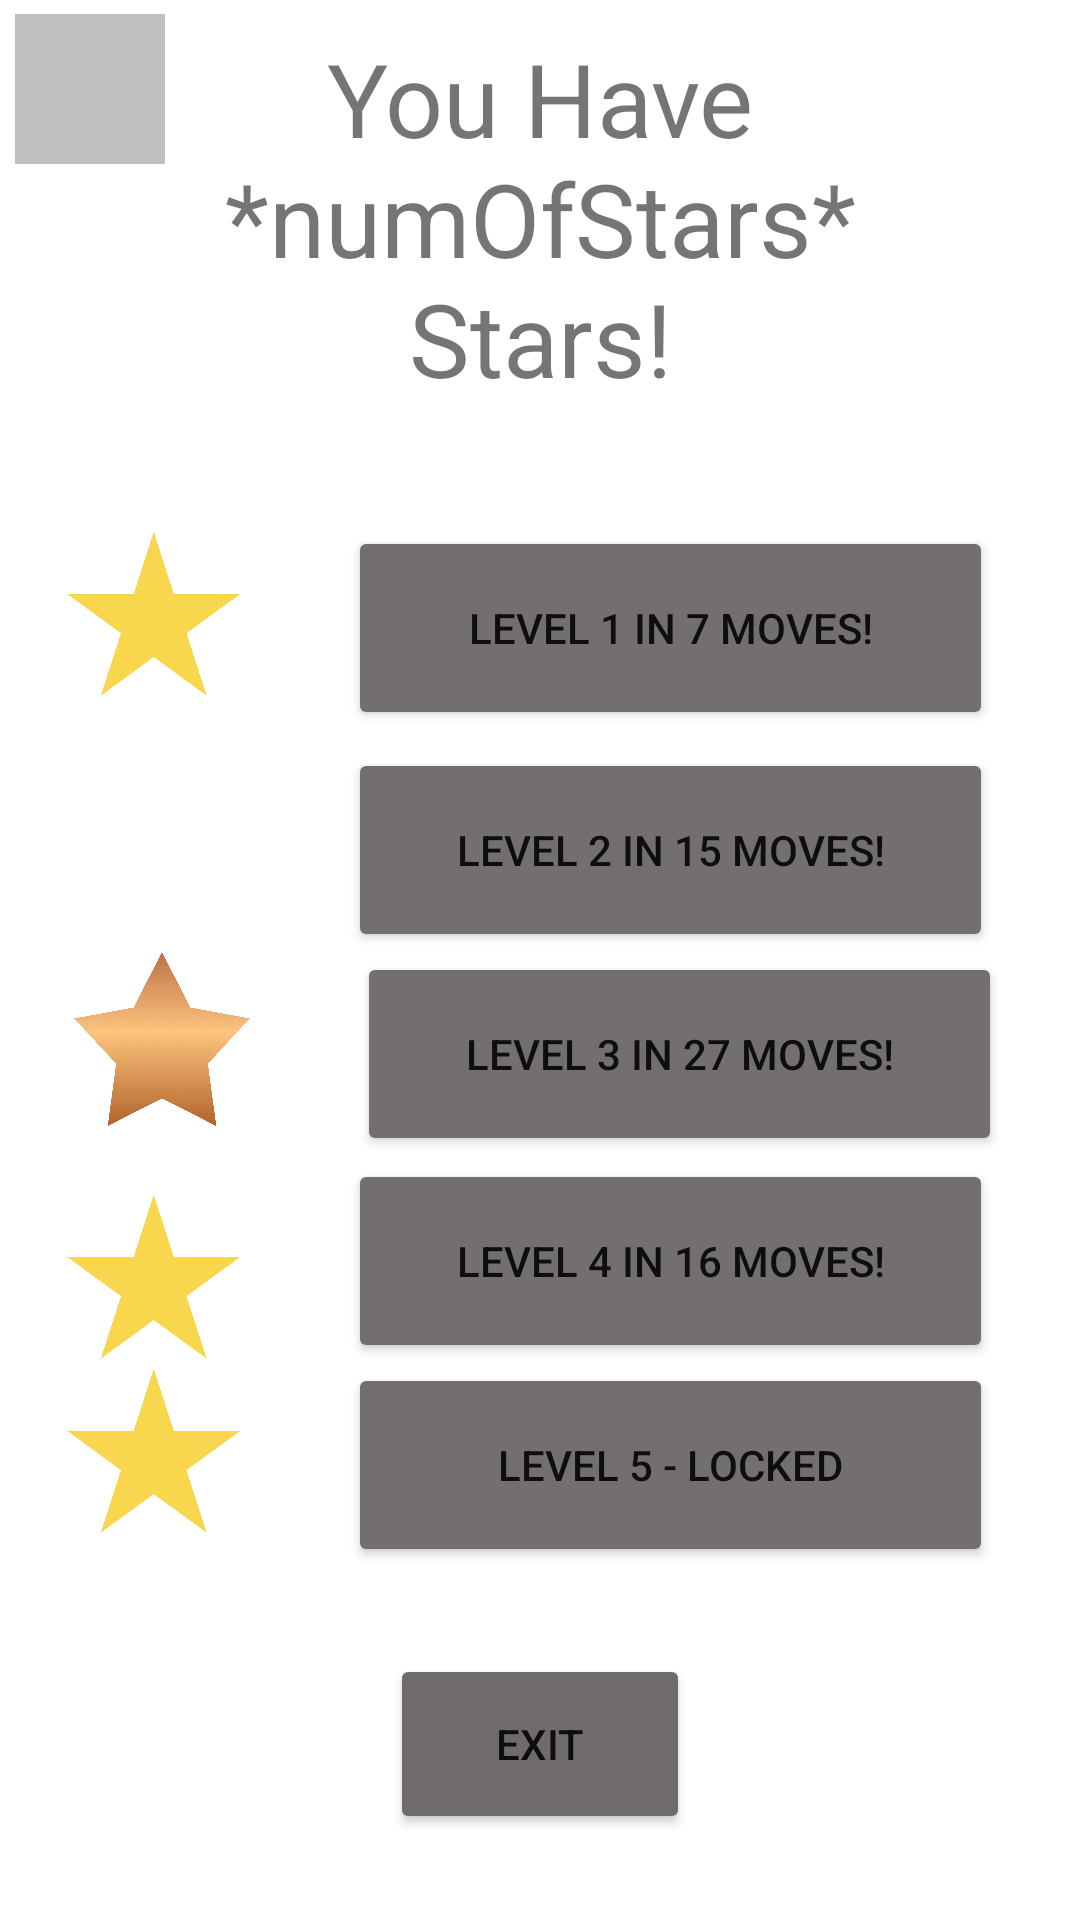

Icon bounding boxes for this 1080px×1920px phone screenshot, format BBox(x1, y1, x2, y2):
bronzestar: BBox(74, 953, 250, 1126)
goldstar: BBox(68, 532, 240, 696), BBox(68, 1195, 240, 1359), BBox(68, 1369, 240, 1533)
